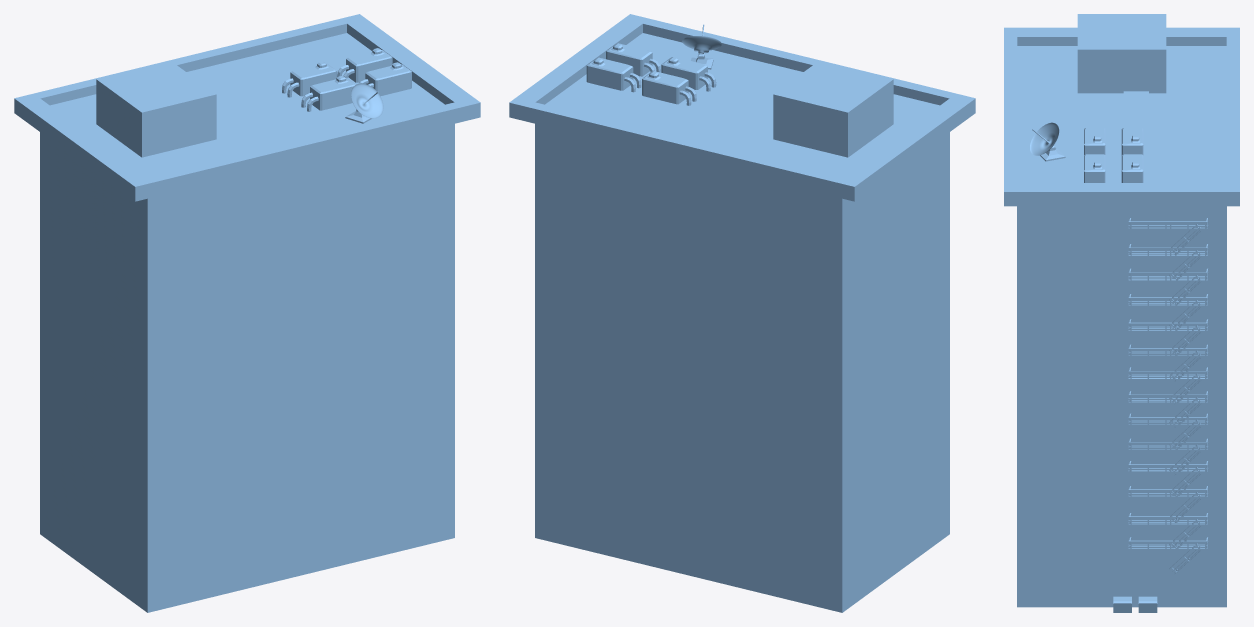
Rendered from Building3.fbx.
The picture shows the model from 3 angles, left to right: view 1: azimuth 30°, elevation 25°; view 2: azimuth 150°, elevation 25°; view 3: azimuth 270°, elevation 25°; orthographic projection. The views are drawn at different scales.
Parts seen in each view (by area): view 1: Cube.093; view 2: Cube.093; view 3: Cube.093.
Boxes of the visible parts, x1,y1,x2,y2 form: Cube.093: [14, 14, 480, 612]; Cube.093: [509, 14, 975, 612]; Cube.093: [1004, 14, 1239, 612].
Size of the model in its own units: 2100 by 2737 by 1274.
